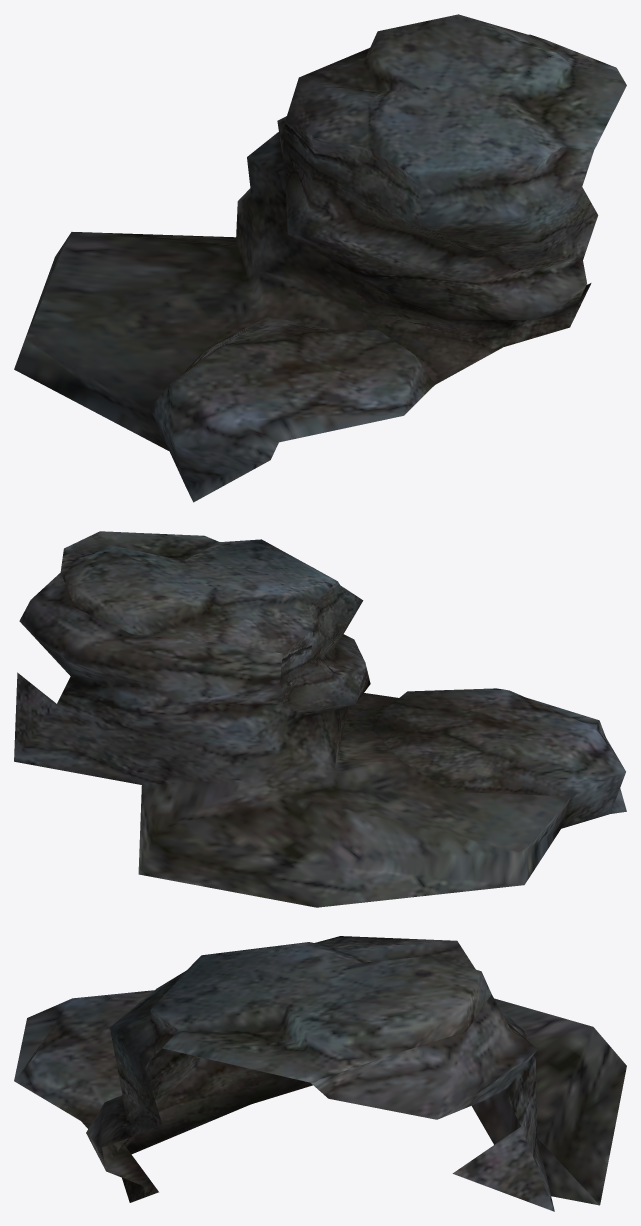
The model's file is S_Rock_Yellow034_H03.FBX.
3 renders of one model, top to bottom at view 1: azimuth 30°, elevation 25°; view 2: azimuth 150°, elevation 25°; view 3: azimuth 270°, elevation 25°, orthographic. The views are drawn at different scales.
Parts seen in each view (by area): view 1: S_Rock_Yellow034_H03; view 2: S_Rock_Yellow034_H03; view 3: S_Rock_Yellow034_H03.
Boxes of the visible parts, left/top/right/bottom form: S_Rock_Yellow034_H03: left=14, top=14, right=626, bottom=502; S_Rock_Yellow034_H03: left=14, top=531, right=626, bottom=907; S_Rock_Yellow034_H03: left=14, top=936, right=626, bottom=1211.
Size of the model in its own units: 999 by 853 by 446.
1 material, 1 textured.
